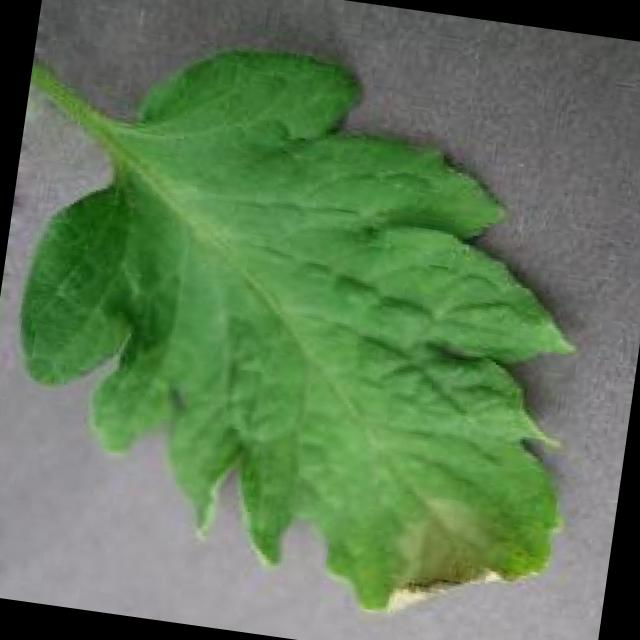Tomato_Late_Blight: (333, 474, 578, 640)
